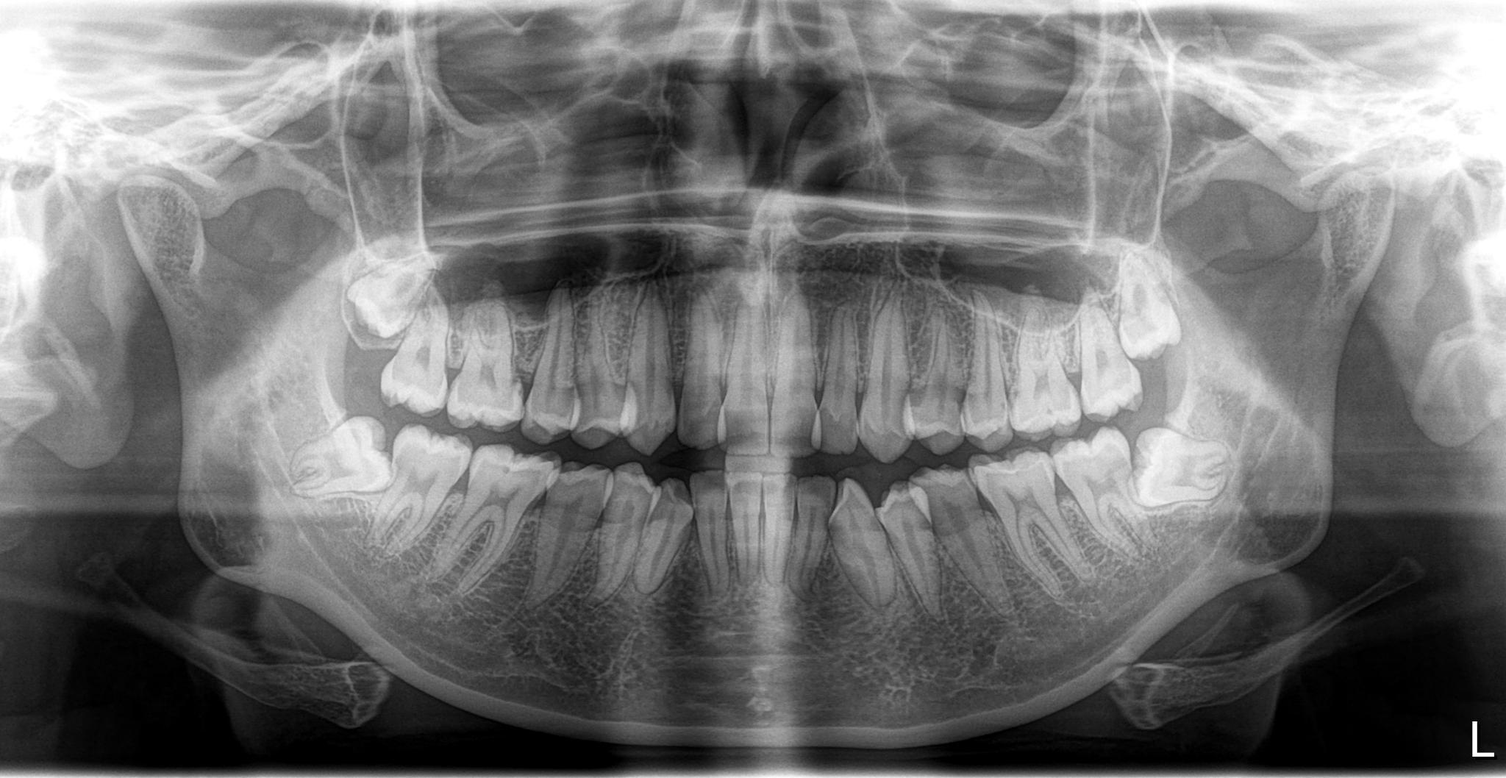Impacted Third Molar: (333, 261, 443, 347), (1109, 270, 1207, 364), (1136, 426, 1249, 501), (283, 425, 389, 504)
